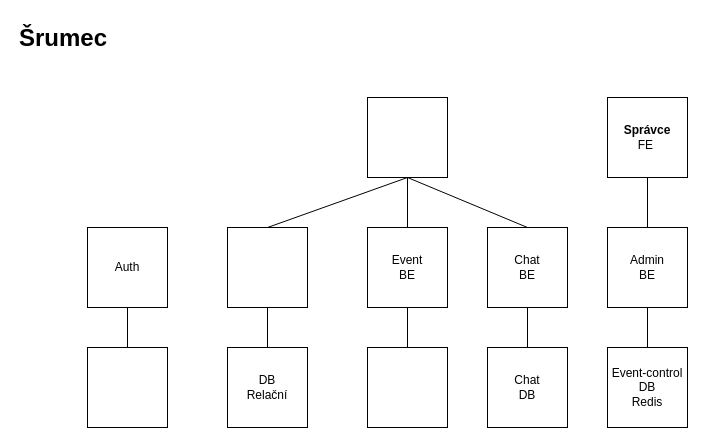
This 705x445 diagram has some shape labels left out. The shapes that lost their labels are listed below. From the top down, each one's box as (x1, y1, x2, y2) in pixels, then its label:
(366, 96, 448, 178): Aplikace Flutter
(226, 226, 308, 308): User Backend
(86, 346, 168, 428): DB Auth
(366, 346, 448, 428): Event DB Redis
